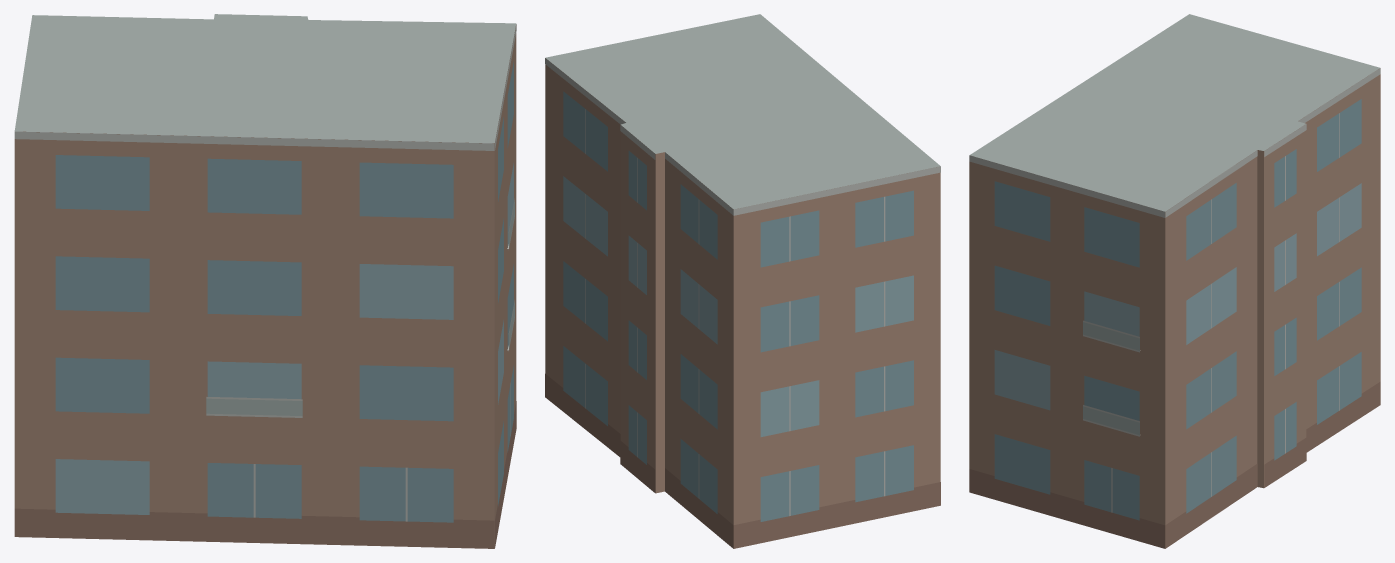
The model's file is survey-upis-32774937.glb.
The picture shows the model from 3 angles, left to right: view 1: azimuth 30°, elevation 25°; view 2: azimuth 150°, elevation 25°; view 3: azimuth 270°, elevation 25°; orthographic projection. The views are drawn at different scales.
Visible parts, largest first — view 1: survey-upis-32774937.tmp; view 2: survey-upis-32774937.tmp; view 3: survey-upis-32774937.tmp.
Boxes of the visible parts, bbox=[...] form: survey-upis-32774937.tmp: bbox=[14, 14, 516, 548]; survey-upis-32774937.tmp: bbox=[545, 14, 940, 548]; survey-upis-32774937.tmp: bbox=[969, 14, 1380, 548].
Bounding box in the file's own units: 16.33 × 12.98 × 14.35.
